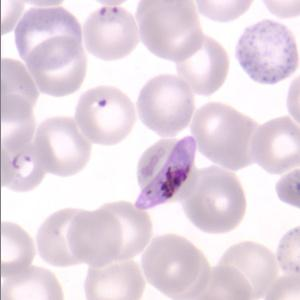Infected: (134, 136, 198, 209), (0, 128, 50, 192), (83, 5, 140, 60)
Uninfected: (13, 7, 82, 70), (138, 1, 204, 61), (73, 85, 136, 145), (191, 167, 246, 233), (138, 74, 195, 137), (219, 241, 279, 300), (143, 233, 201, 292), (31, 36, 87, 97), (37, 208, 93, 267), (175, 34, 229, 95), (39, 116, 93, 176), (99, 202, 153, 259), (67, 209, 121, 264), (251, 115, 300, 175), (193, 100, 240, 158), (86, 258, 144, 300), (3, 265, 66, 300), (0, 220, 35, 271)
